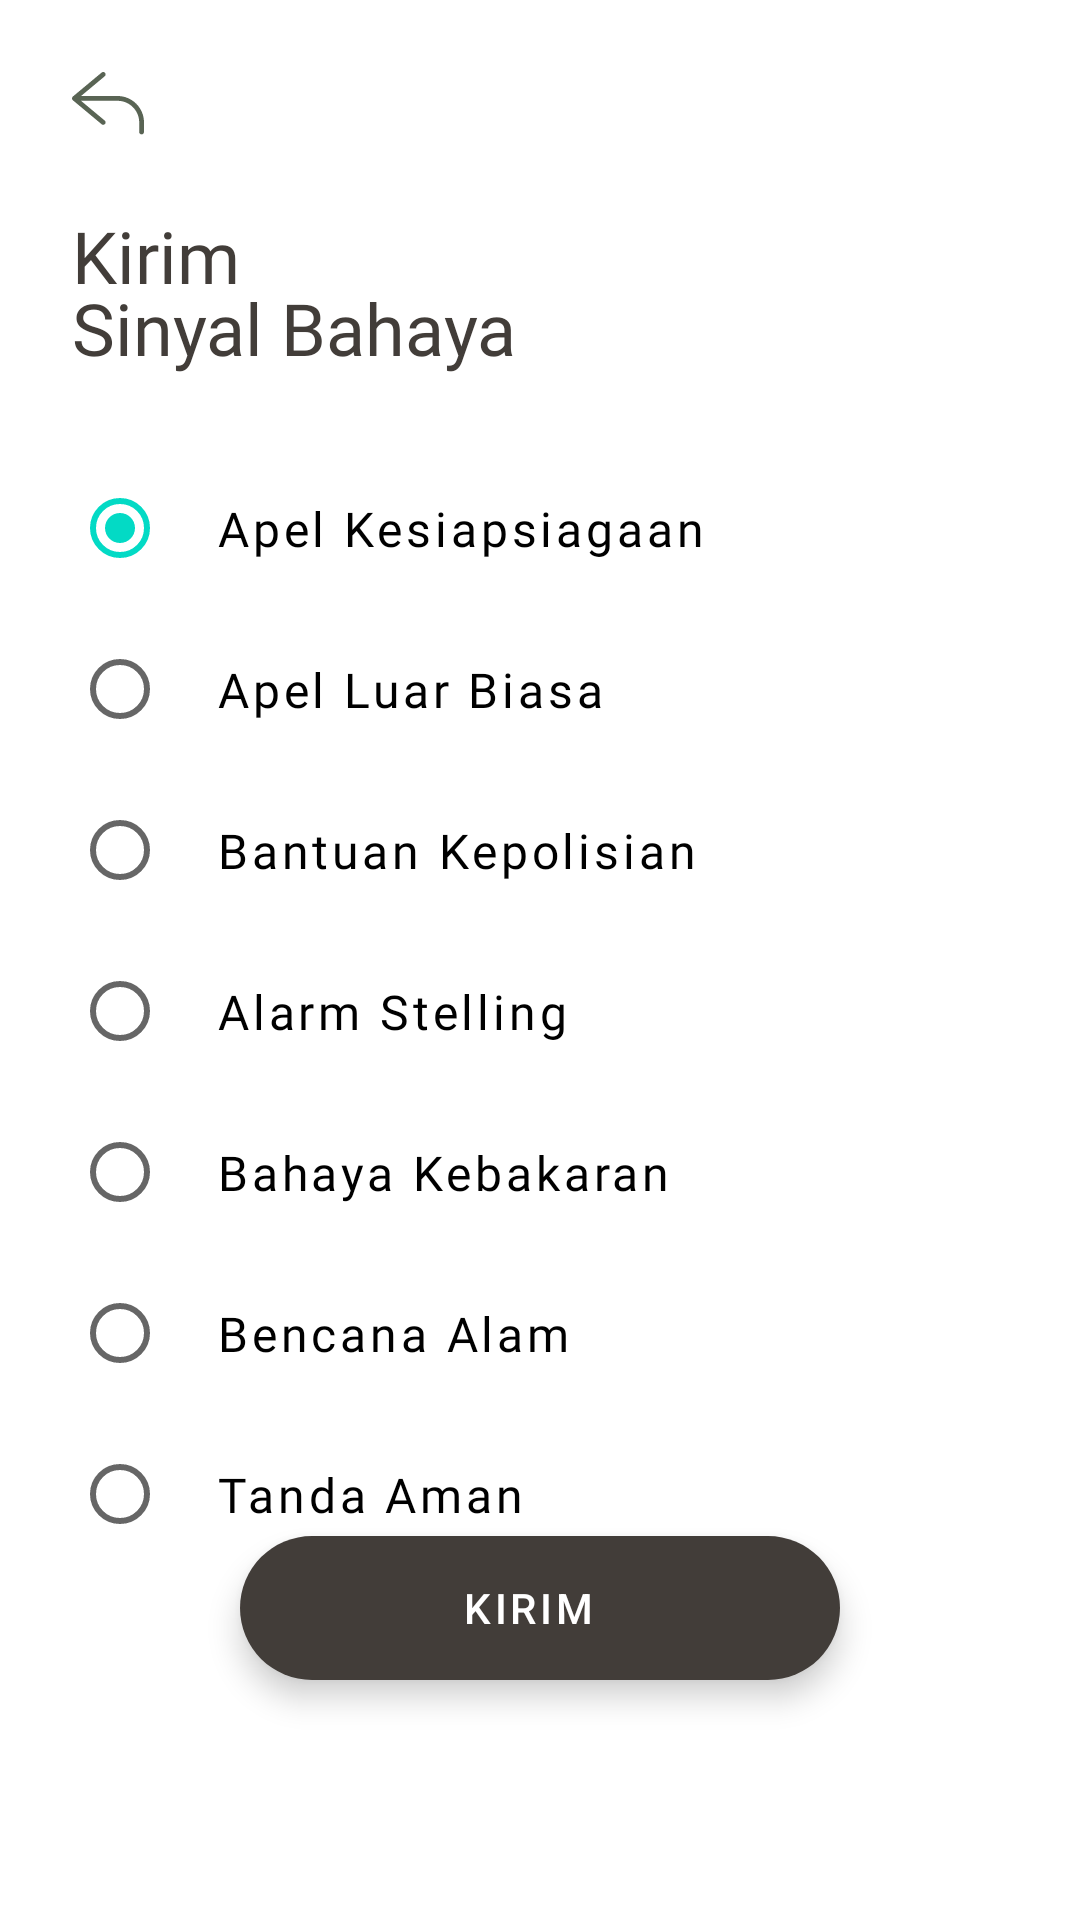

Icon bounding boxes for this 1080×1920 phone screenshot, format (x1, y1, x2, y2):
back: (72, 72, 144, 135)
